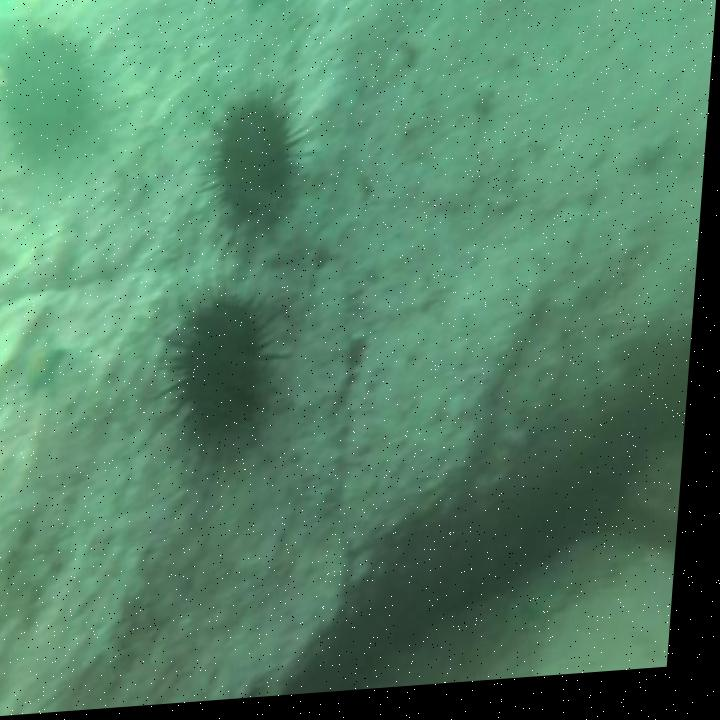echinus: (166, 281, 289, 465), (0, 10, 110, 183), (205, 86, 308, 239)
starfish: (22, 327, 78, 412)
